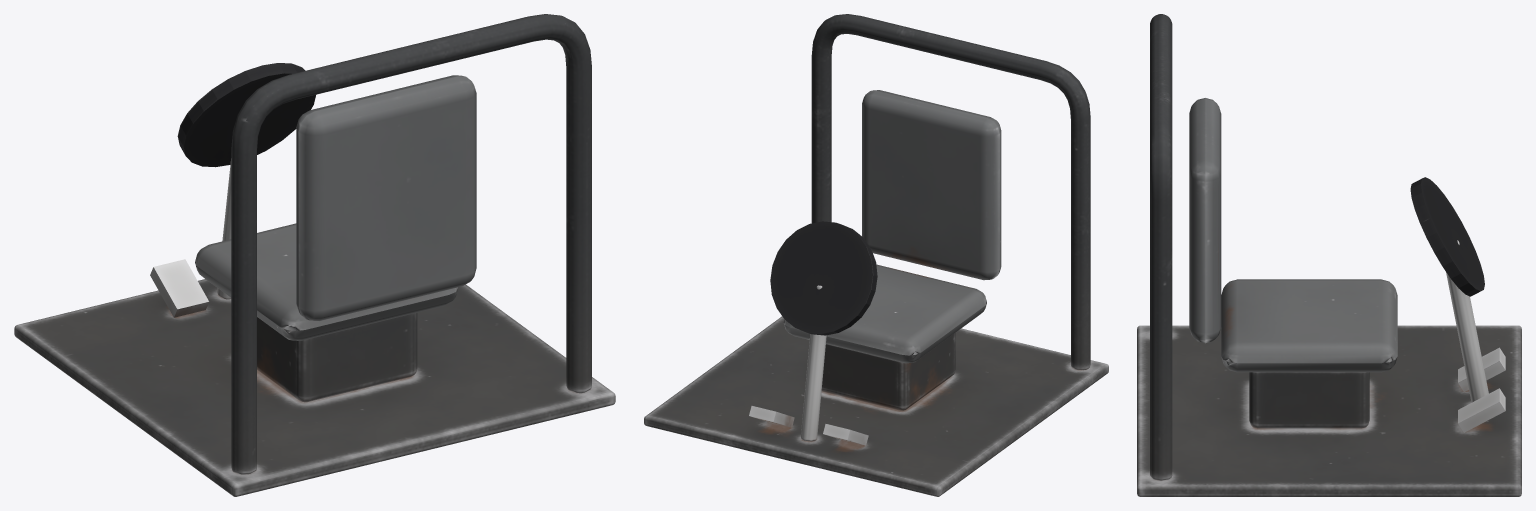
File: SM_PartDriverSeat.glb
3 renders of one model, left to right at view 1: azimuth 30°, elevation 25°; view 2: azimuth 150°, elevation 25°; view 3: azimuth 270°, elevation 25°, orthographic. The views are drawn at different scales.
Parts seen in each view (by area): view 1: SM_PartDriverSeat; view 2: SM_PartDriverSeat; view 3: SM_PartDriverSeat.
Part boxes in pixels (x1,y1,x2,y2): SM_PartDriverSeat: [14, 14, 615, 496]; SM_PartDriverSeat: [644, 14, 1108, 496]; SM_PartDriverSeat: [1137, 14, 1521, 496].
Size of the model in its own units: 0.96 by 0.948 by 0.96.
4 materials, 4 textured.
